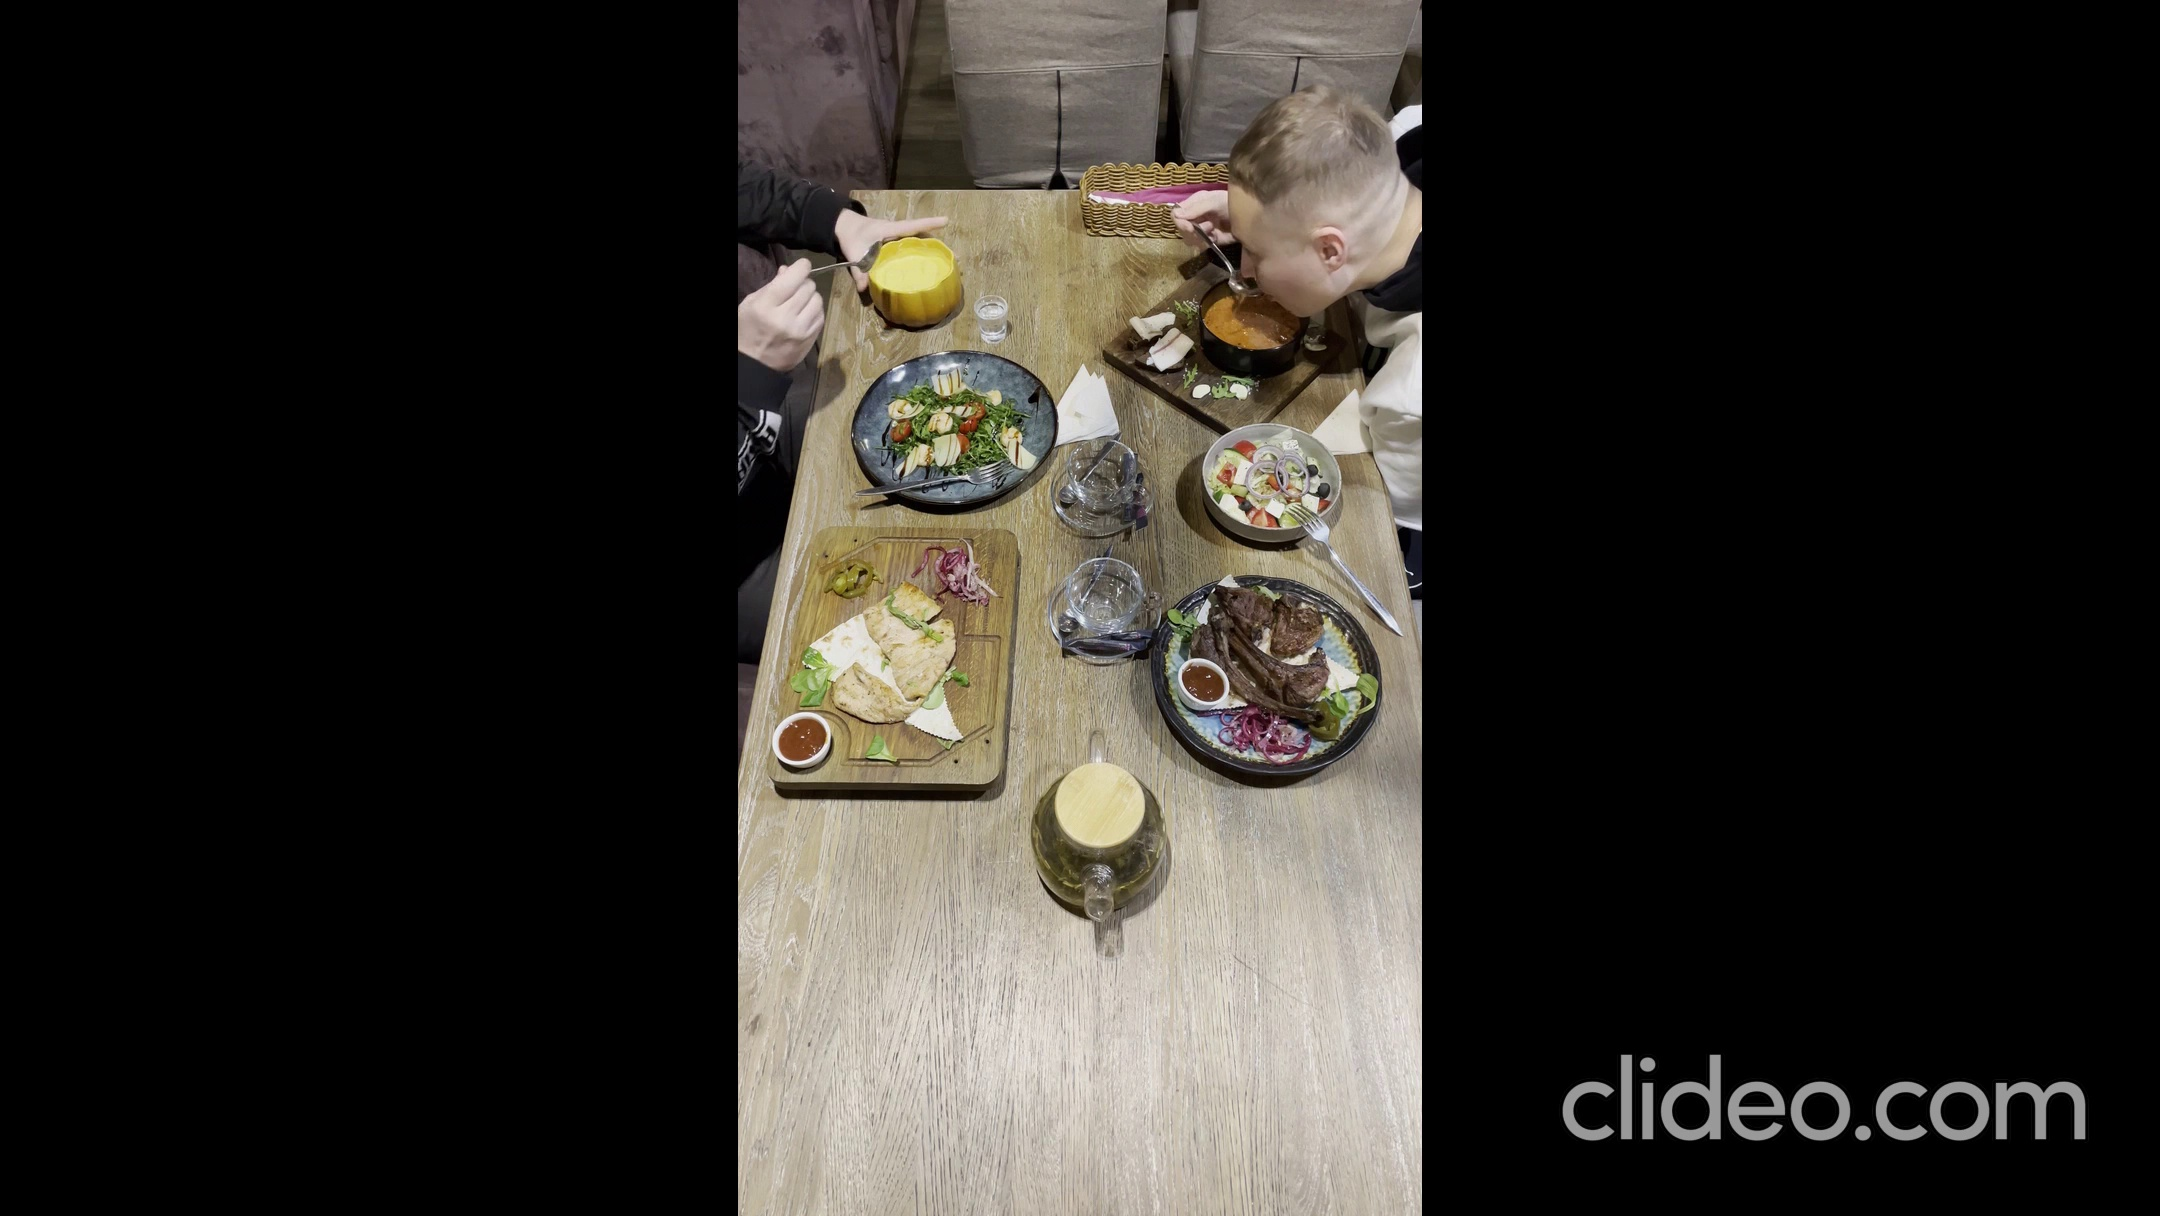графин с чаем: (1030, 731, 1165, 924)
закуска: (768, 526, 1019, 793)
мясное блюдо: (1153, 574, 1384, 776)
салат: (853, 350, 1056, 503)
салат цезарь: (1202, 424, 1341, 546)
суп сырный: (868, 237, 960, 328)
